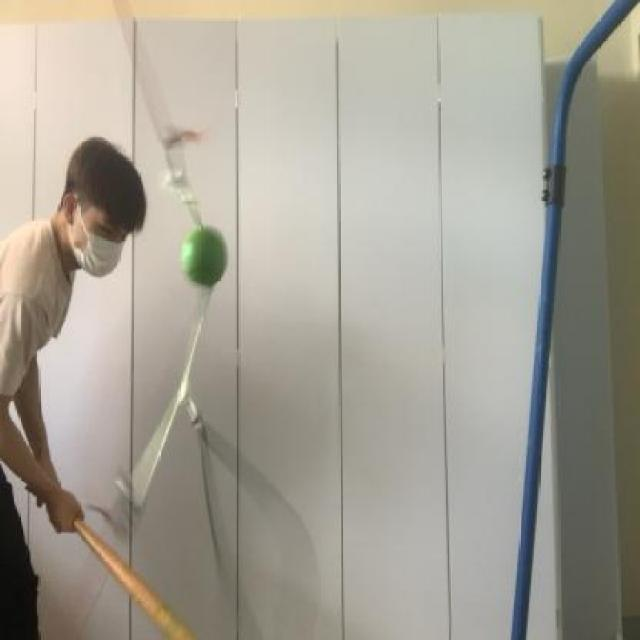baseball: (173, 221, 232, 293)
